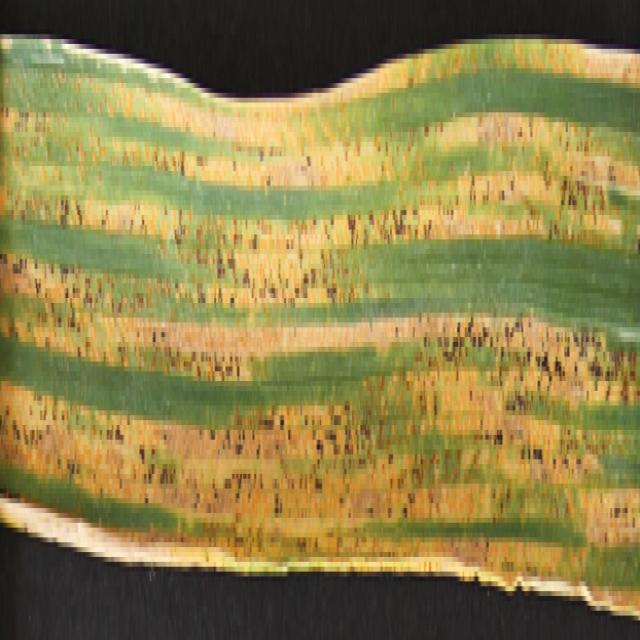leaf rust: (1, 44, 640, 611)
